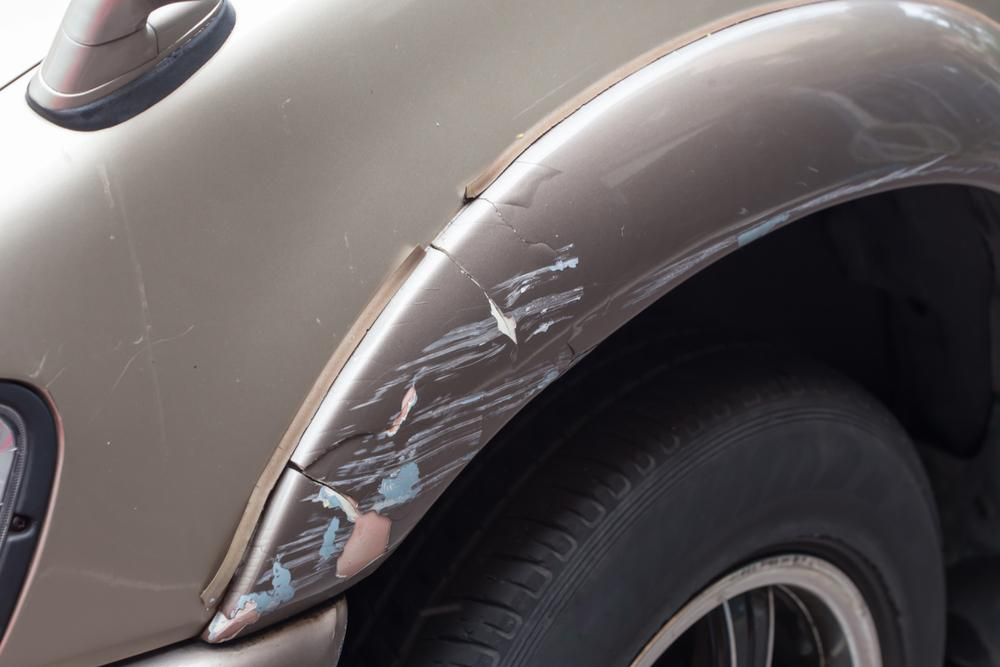crack: (432, 242, 517, 341), (287, 430, 370, 511)
scratch: (214, 157, 1000, 633)
